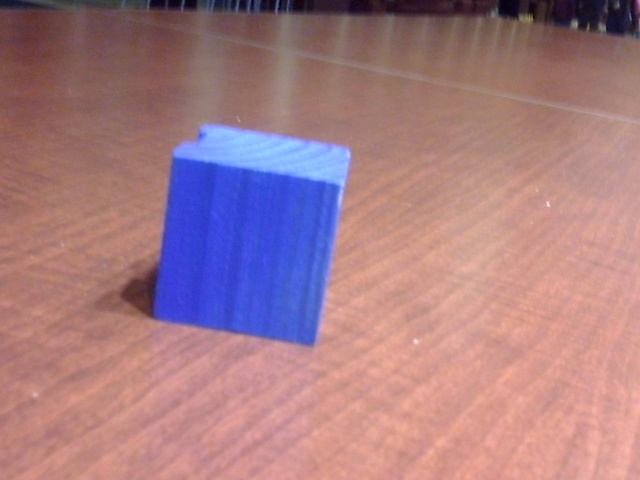BlueBlock: (151, 122, 351, 349)
